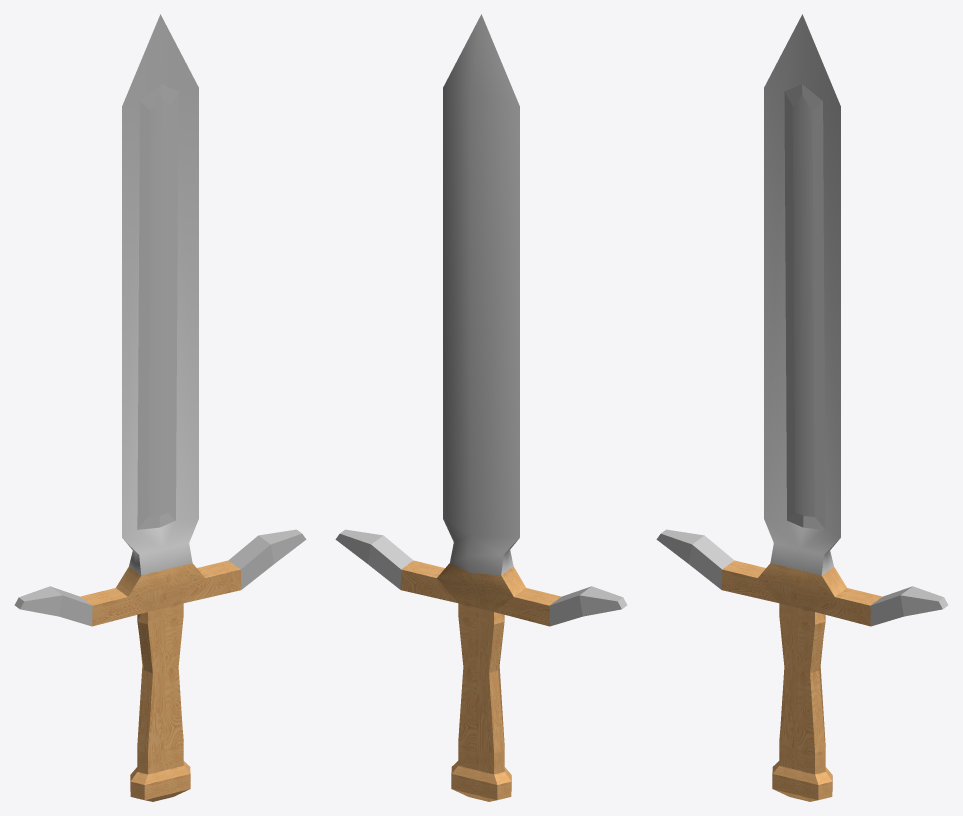
File: Sword_GameExport.fbx
3 views of the same model, side by side, from view 1: azimuth 30°, elevation 25°; view 2: azimuth 150°, elevation 25°; view 3: azimuth 330°, elevation 25° (orthographic).
Parts seen in each view (by area): view 1: Box001; view 2: Box001; view 3: Box001.
Part boxes in pixels (x1,y1,x2,y2): Box001: (14, 14, 306, 801); Box001: (335, 14, 627, 801); Box001: (656, 14, 948, 801).
Size of the model in its own units: 47.23 by 5.89 by 123.
